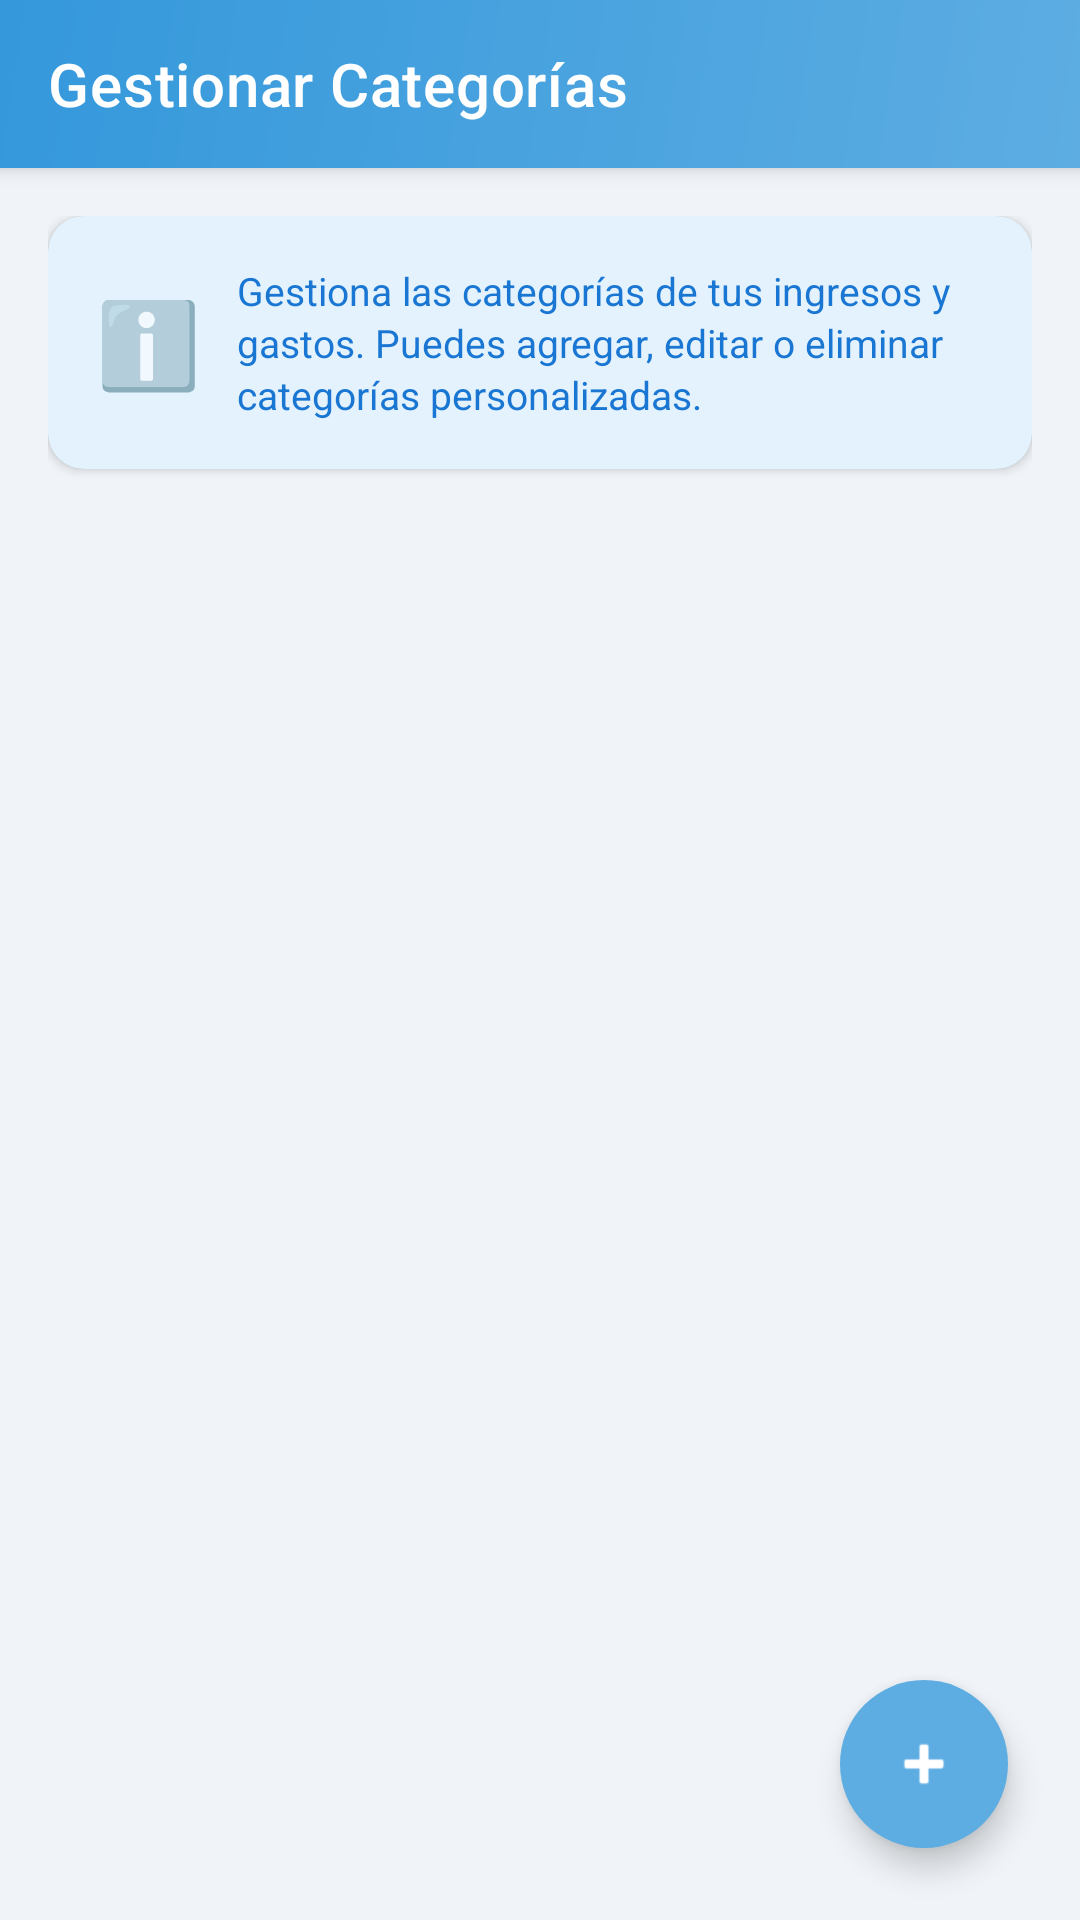

Icons on this 1080px x 1920px Android screen, each with the point to tap as (x,y):
Agregar categoría: (924,1764)
